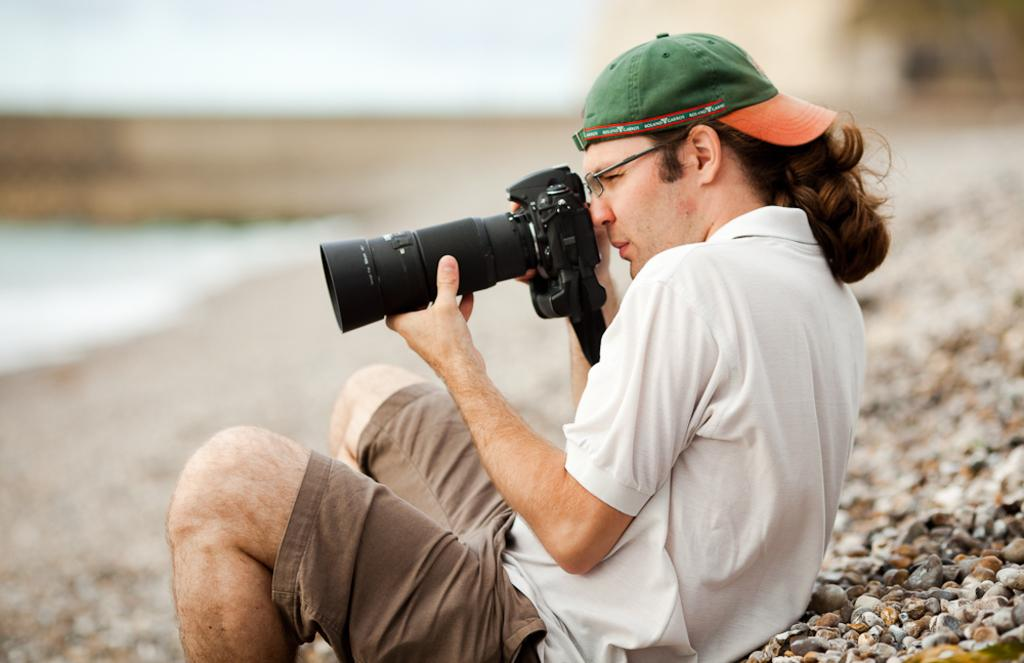Hat: (571, 27, 838, 148)
